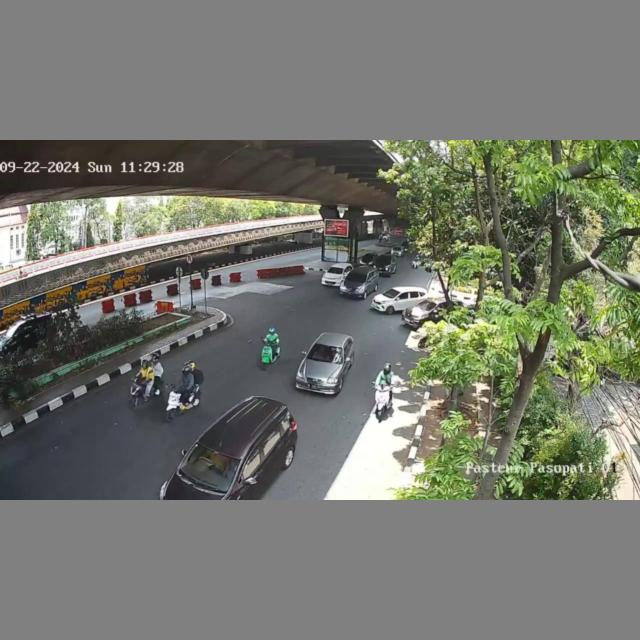windshield: (180, 442, 239, 491), (306, 342, 345, 363), (346, 271, 367, 282), (382, 288, 399, 297), (327, 267, 342, 273)
